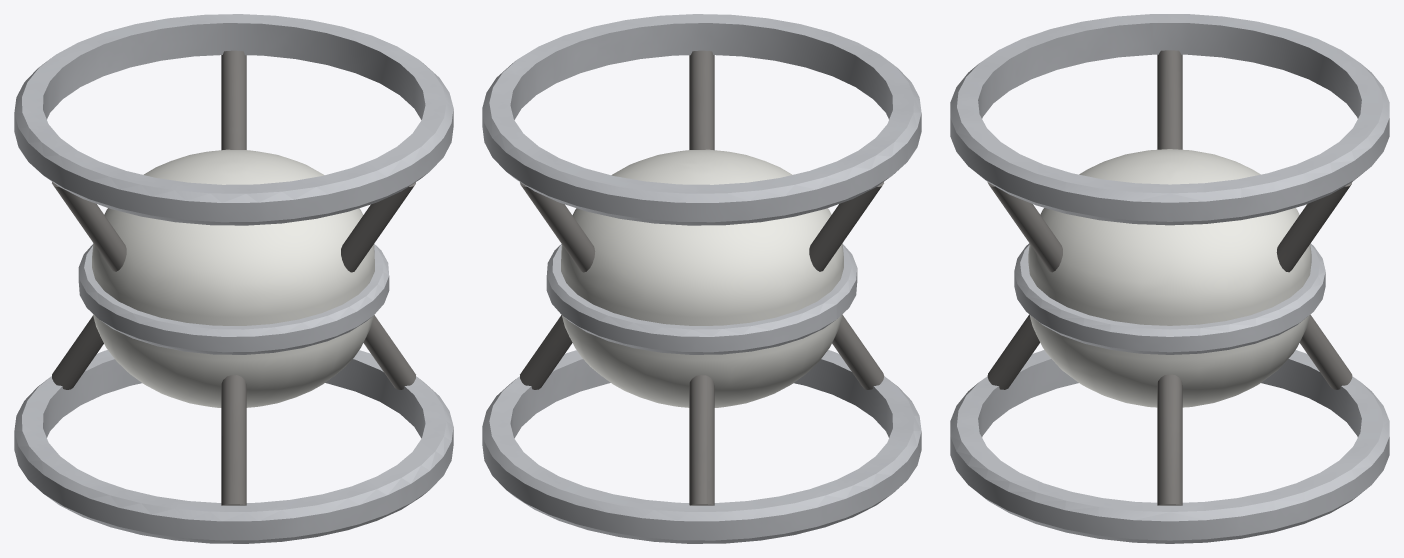
File: ax_tank_13_green_monoprop_xs.glb
The picture shows the model from 3 angles, left to right: view 1: azimuth 30°, elevation 25°; view 2: azimuth 150°, elevation 25°; view 3: azimuth 270°, elevation 25°; orthographic projection.
Visible parts, largest first — view 1: mount_rings, tank, struts, girth_ring; view 2: mount_rings, tank, struts, girth_ring; view 3: mount_rings, tank, struts, girth_ring.
Boxes of the visible parts, box(x1,y1,x2,y2) form: mount_rings: box(14, 14, 453, 543); tank: box(92, 149, 374, 407); struts: box(52, 50, 415, 505); girth_ring: box(78, 244, 389, 354); mount_rings: box(482, 14, 921, 543); tank: box(561, 149, 843, 407); struts: box(520, 50, 884, 505); girth_ring: box(546, 244, 857, 354); mount_rings: box(950, 14, 1389, 543); tank: box(1028, 149, 1311, 407); struts: box(987, 50, 1352, 505); girth_ring: box(1014, 243, 1325, 354).
Size of the model in its own units: 0.625 by 0.55 by 0.6245.
3 materials, 2 textured.
